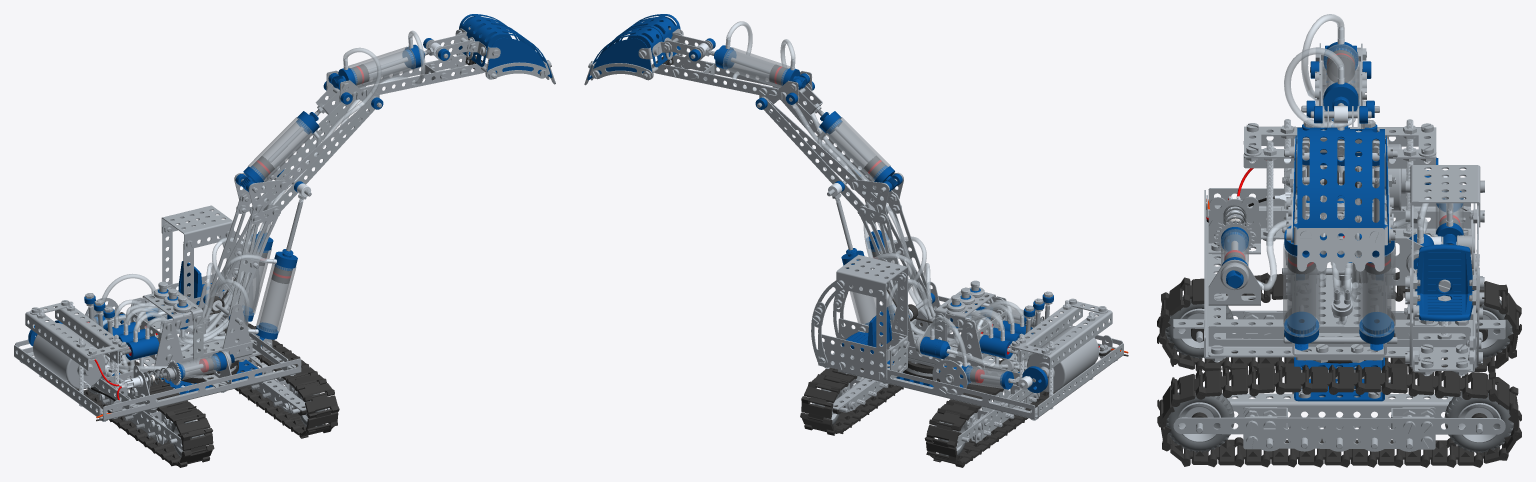
Rendered from Bagger_HHH.glb.
The picture shows the model from 3 angles, left to right: view 1: azimuth 30°, elevation 25°; view 2: azimuth 150°, elevation 25°; view 3: azimuth 270°, elevation 25°; orthographic projection. The views are drawn at different scales.
Parts seen in each view (by area): view 1: Arbeitszylinder Wand (×4), Winkelstab 11 (×2), Winkelstab 20, Winkelstab 15 (×3), Motor D 40 d 4, Winkelplatte 3 x 5, Lochband 15 unten (×2), Lochband 15 oben (×2), Lochband 15 (×2), Langlochband 11 oben (×2), Seitenplatte, Verkleidungsplatte 3 x 12 gebogen 2 (+7 smaller); view 2: Arbeitszylinder Wand (×3), Winkelstab 11 (×2), Winkelstab 20, Winkelplatte 3 x 5, Motor D 40 d 4, Lochband 15 oben (×2), Platte 3 x 7, Lochband 15 (×2), Lochband 9 (×2), Lochband 15 unten, Seitenplatte, Winkelstab 15 (+9 smaller); view 3: Kettenglied (×30), Winkelstab 15 (×3), Arbeitszylinder Wand (×3), Winkelstab 19 (×2), Lochband 19, Verkleidungsplatte 3 x 12 gebogen 2, Reifen 40 x 20 x 10 (×4), Sitz (×2), Verkleidungsplatte 3 x 12 gebogen 1, Schaufelpöatte 2 x 5, Winkelplatte 3 x 5, Befestigungswinkel (×3) (+26 smaller).
Boxes of the visible parts, left/top/right/bottom form: Arbeitszylinder Wand (×4): left=237, top=46, right=415, bottom=333; Winkelstab 11 (×2): left=25, top=306, right=129, bottom=370; Winkelstab 20: left=102, top=358, right=301, bottom=420; Winkelstab 15 (×3): left=14, top=307, right=290, bottom=418; Motor D 40 d 4: left=33, top=323, right=105, bottom=388; Winkelplatte 3 x 5: left=161, top=205, right=233, bottom=250; Lochband 15 unten (×2): left=249, top=97, right=378, bottom=224; Lochband 15 oben (×2): left=240, top=96, right=378, bottom=208; Lochband 15 (×2): left=326, top=53, right=487, bottom=98; Langlochband 11 oben (×2): left=207, top=193, right=258, bottom=319; Seitenplatte: left=487, top=37, right=546, bottom=73; Verkleidungsplatte 3 x 12 gebogen 2: left=468, top=21, right=552, bottom=77; Arbeitszylinder Wand (×3): left=722, top=47, right=890, bottom=325; Winkelstab 11 (×2): left=1008, top=305, right=1112, bottom=369; Winkelstab 20: left=838, top=369, right=1036, bottom=419; Winkelplatte 3 x 5: left=836, top=254, right=908, bottom=299; Motor D 40 d 4: left=1027, top=326, right=1098, bottom=391; Lochband 15 oben (×2): left=760, top=96, right=898, bottom=209; Platte 3 x 7: left=818, top=334, right=887, bottom=380; Lochband 15 (×2): left=652, top=54, right=811, bottom=99; Lochband 9 (×2): left=876, top=272, right=907, bottom=380; Lochband 15 unten: left=760, top=97, right=875, bottom=224; Seitenplatte: left=593, top=38, right=652, bottom=74; Winkelstab 15: left=1030, top=343, right=1123, bottom=418; Kettenglied (×30): left=1157, top=274, right=1521, bottom=467; Winkelstab 15 (×3): left=1208, top=188, right=1470, bottom=357; Arbeitszylinder Wand (×3): left=1283, top=44, right=1395, bottom=337; Winkelstab 19 (×2): left=1173, top=319, right=1505, bottom=417; Lochband 19: left=1173, top=417, right=1505, bottom=434; Verkleidungsplatte 3 x 12 gebogen 2: left=1297, top=127, right=1349, bottom=257; Reifen 40 x 20 x 10 (×4): left=1165, top=297, right=1513, bottom=453; Sitz (×2): left=1415, top=244, right=1473, bottom=321; Verkleidungsplatte 3 x 12 gebogen 1: left=1337, top=129, right=1384, bottom=262; Schaufelpöatte 2 x 5: left=1297, top=228, right=1384, bottom=271; Winkelplatte 3 x 5: left=1410, top=165, right=1480, bottom=227; Befestigungswinkel (×3): left=1208, top=199, right=1423, bottom=305.
Size of the model in its own units: 0.4959 by 0.3257 by 0.2087.
